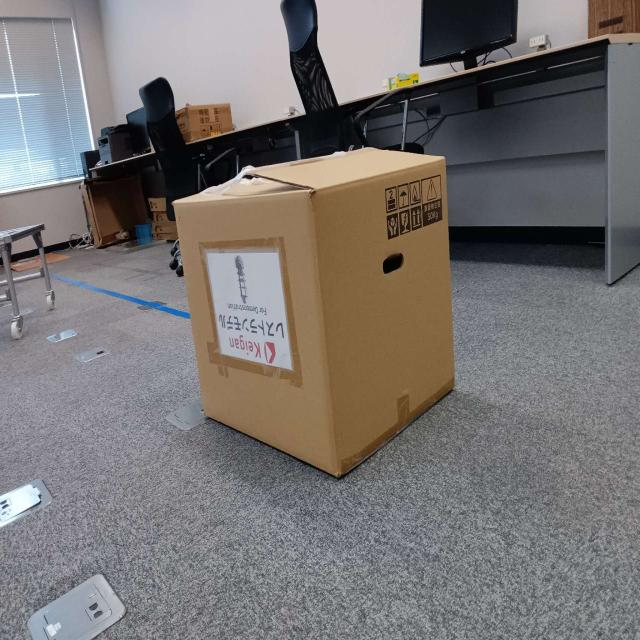box: (175, 145, 464, 481)
